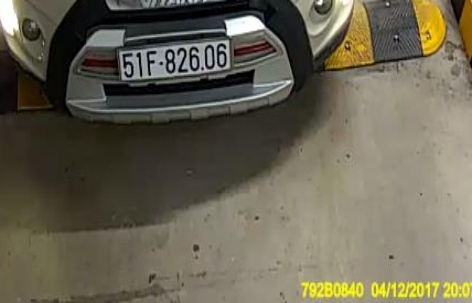plate: (118, 39, 232, 81)
